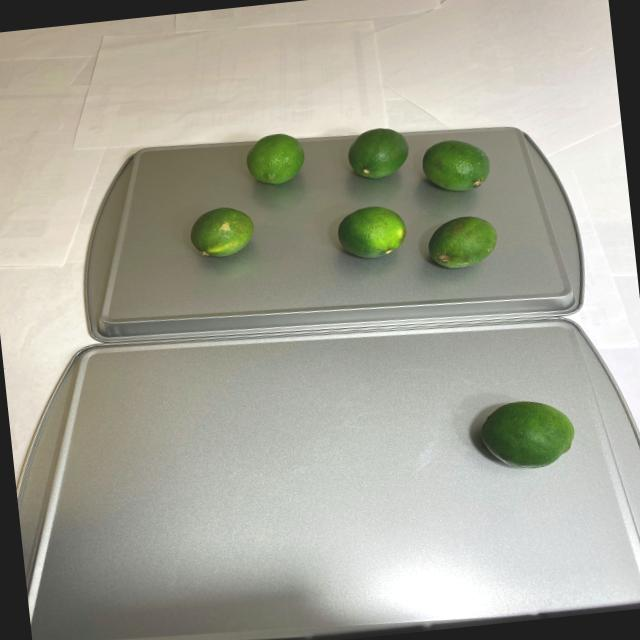lemon: (168, 116, 520, 300), (474, 394, 577, 476)
